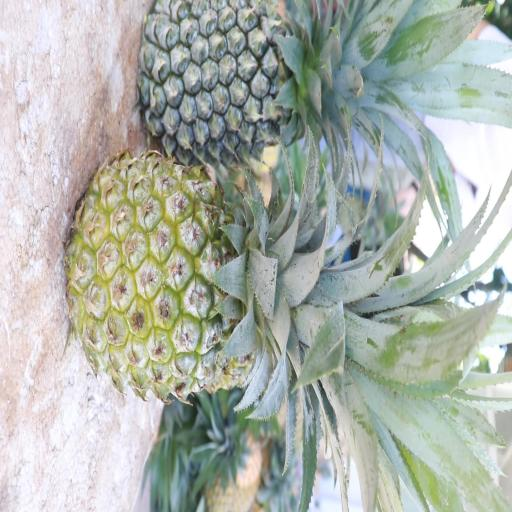------------------------------: (60, 143, 358, 405)
